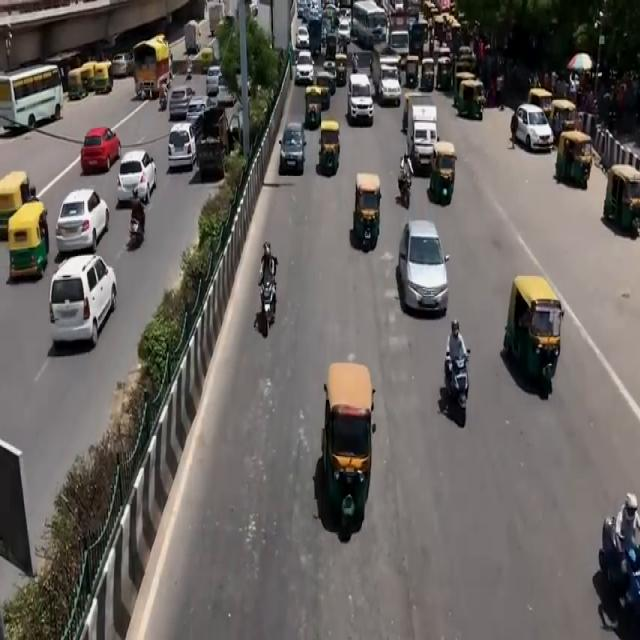BUS: (0, 67, 62, 134)
MOTORCYCLE: (446, 351, 470, 427), (261, 282, 278, 341), (399, 173, 411, 211)
TRUCK: (133, 38, 172, 98)
